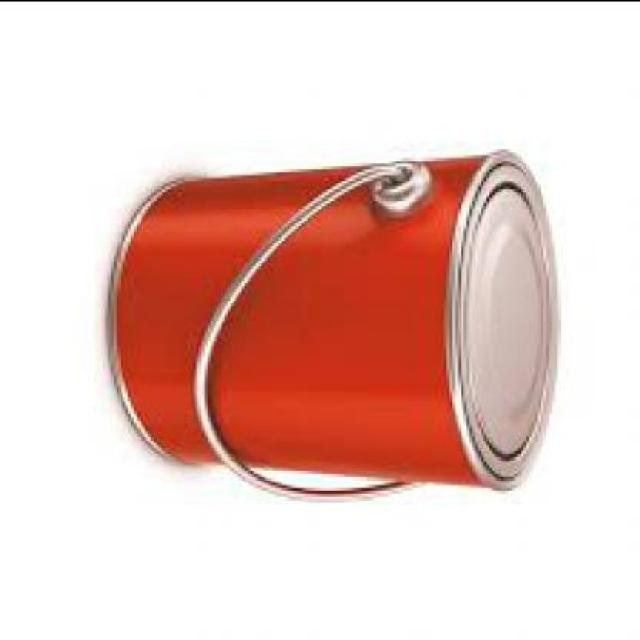METAL: (111, 150, 560, 504)
